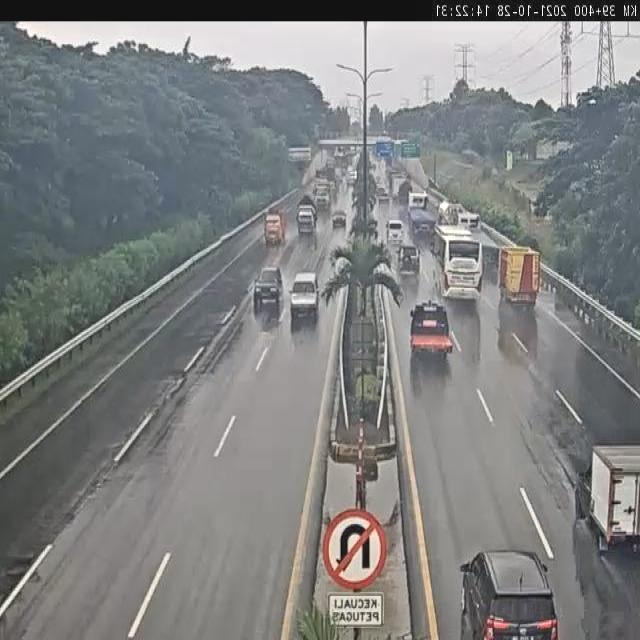Bus: (432, 224, 482, 300)
Car: (460, 550, 559, 638), (288, 270, 318, 321), (253, 266, 283, 311), (396, 243, 421, 279), (386, 219, 405, 246), (332, 210, 347, 230), (376, 183, 389, 201)
Truck: (584, 444, 640, 560), (497, 245, 541, 310), (409, 300, 453, 360), (408, 192, 438, 236), (296, 195, 318, 236), (264, 210, 286, 247)
